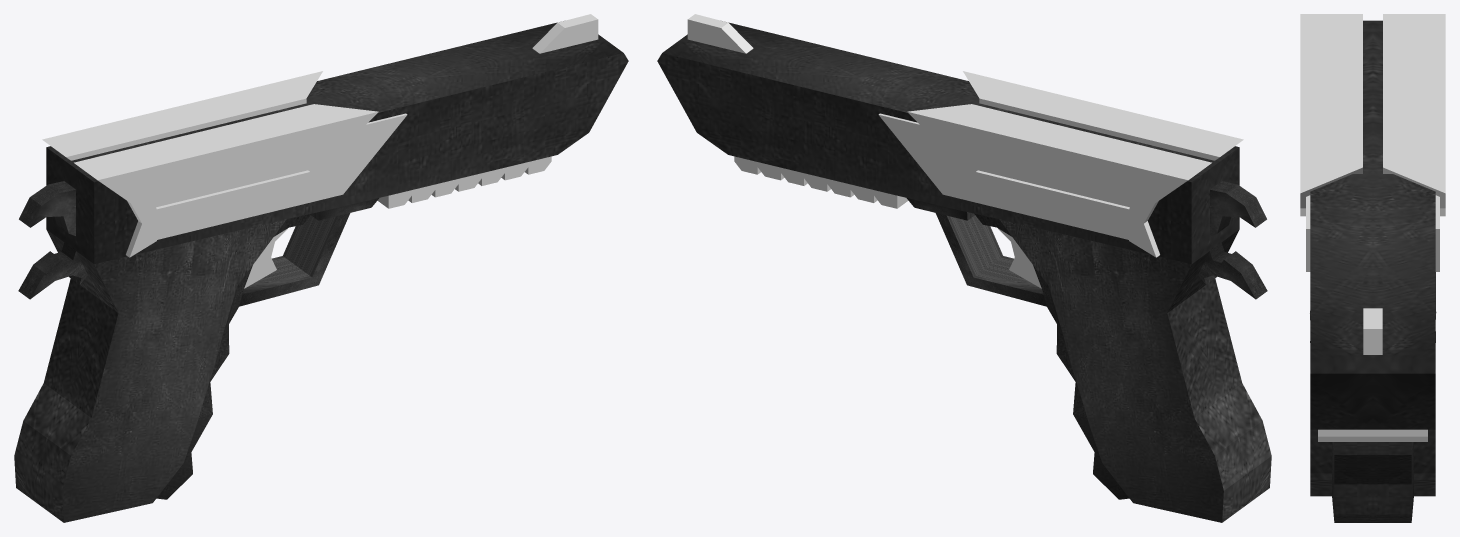
File: Gun.fbx
The picture shows the model from 3 angles, left to right: view 1: azimuth 30°, elevation 25°; view 2: azimuth 150°, elevation 25°; view 3: azimuth 270°, elevation 25°; orthographic projection. The views are drawn at different scales.
Visible parts, largest first — view 1: Cube, Cube.004, Cube.005, Cube.006, Cube.001, Cube.003, Cube.002; view 2: Cube, Cube.004, Cube.005, Cube.006, Cube.001, Cube.003, Cube.002; view 3: Cube, Cube.004, Cube.005, Cube.003, Cube.002, Cube.006.
Part boxes in pixels (x1=…): Cube: x1=14, y1=22, x2=628, y2=522; Cube.004: x1=42, y1=71, x2=378, y2=257; Cube.005: x1=156, y1=198, x2=379, y2=499; Cube.006: x1=152, y1=113, x2=407, y2=239; Cube.001: x1=18, y1=181, x2=87, y2=299; Cube.003: x1=377, y1=156, x2=551, y2=208; Cube.002: x1=532, y1=14, x2=598, y2=53; Cube: x1=657, y1=22, x2=1271, y2=522; Cube.004: x1=907, y1=71, x2=1243, y2=257; Cube.005: x1=906, y1=198, x2=1129, y2=499; Cube.006: x1=878, y1=113, x2=1133, y2=239; Cube.001: x1=1198, y1=181, x2=1267, y2=299; Cube.003: x1=734, y1=156, x2=908, y2=208; Cube.002: x1=687, y1=14, x2=753, y2=53; Cube: x1=1310, y1=20, x2=1436, y2=496; Cube.004: x1=1300, y1=14, x2=1445, y2=216; Cube.005: x1=1332, y1=442, x2=1413, y2=522; Cube.003: x1=1318, y1=429, x2=1427, y2=441; Cube.002: x1=1363, y1=308, x2=1382, y2=354; Cube.006: x1=1306, y1=195, x2=1439, y2=271.
Size of the model in its own units: 427 by 256 by 70.84.
